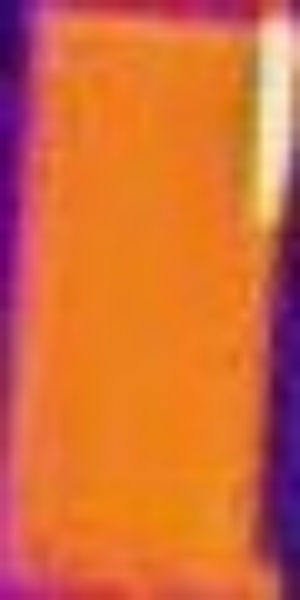Diode: (246, 12, 300, 232)
